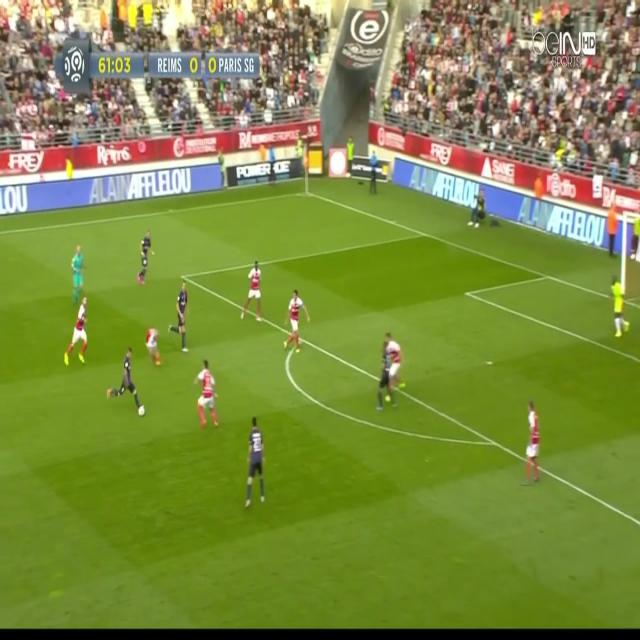Ball: (136, 401, 147, 420)
Goalkeeper: (609, 275, 631, 341)
Player: (241, 412, 270, 516), (60, 294, 90, 370), (105, 345, 141, 407), (519, 400, 543, 493), (192, 357, 220, 432), (280, 286, 310, 353), (168, 279, 192, 355), (241, 258, 265, 325), (374, 336, 394, 416), (387, 329, 408, 402), (136, 227, 156, 291), (143, 325, 165, 368)
Referee: (69, 244, 86, 307)
